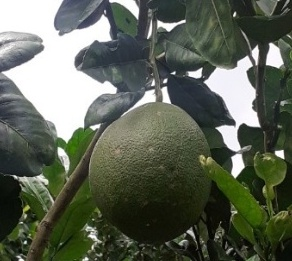Buoi: (86, 99, 216, 244)
